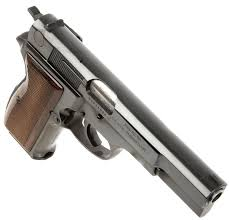gun: (10, 6, 226, 216)
